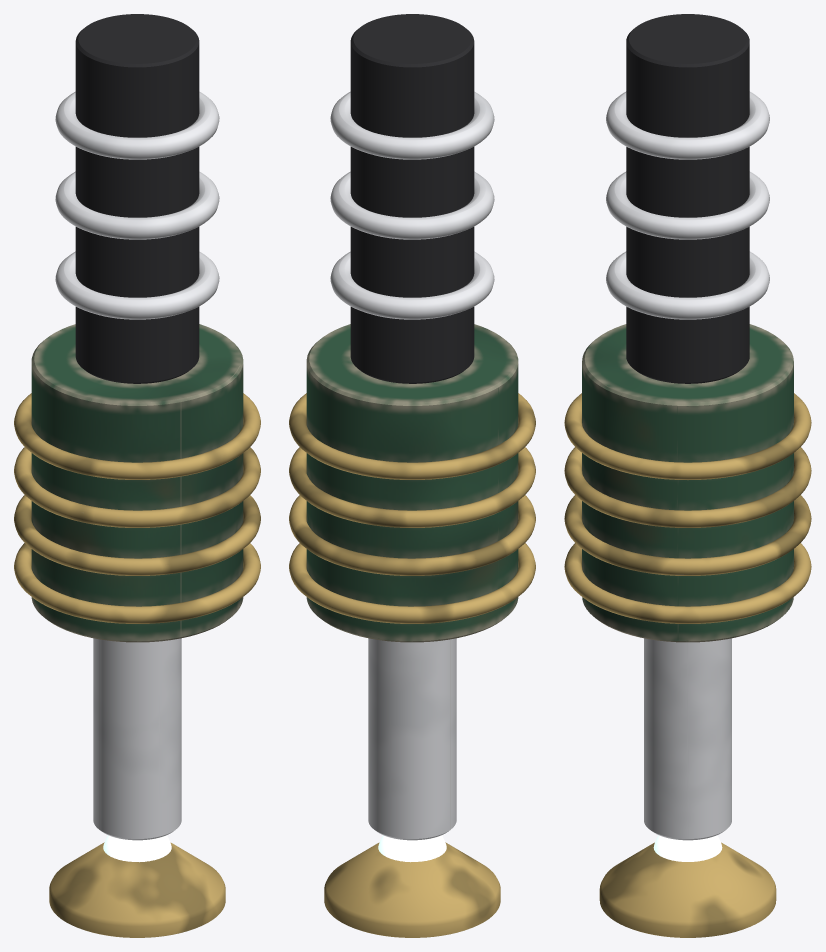
File: sentry_gun.glb
The picture shows the model from 3 angles, left to right: view 1: azimuth 30°, elevation 25°; view 2: azimuth 150°, elevation 25°; view 3: azimuth 270°, elevation 25°; orthographic projection.
Parts seen in each view (by area): view 1: sentry_gun; view 2: sentry_gun; view 3: sentry_gun.
Part boxes in pixels (left/top/right/bottom): sentry_gun: left=14, top=14, right=260, bottom=937; sentry_gun: left=289, top=14, right=535, bottom=937; sentry_gun: left=564, top=14, right=811, bottom=937.
Size of the model in its own units: 0.28 by 1.08 by 0.28.
Materials: 5 (3 with a texture image).
